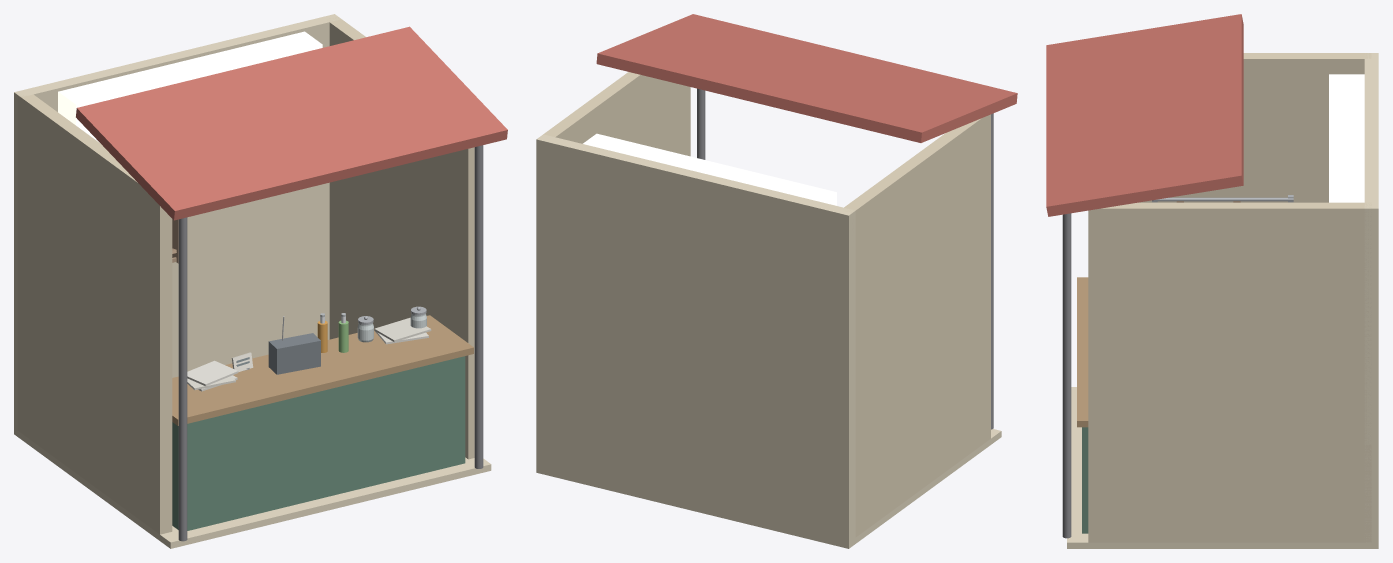
Rendered from room_newsstand_shell.glb.
The picture shows the model from 3 angles, left to right: view 1: azimuth 30°, elevation 25°; view 2: azimuth 150°, elevation 25°; view 3: azimuth 270°, elevation 25°; orthographic projection. The views are drawn at different scales.
Parts seen in each view (by area): view 1: Newsstand_WallLeft, Newsstand_Awning, Newsstand_Counter, Newsstand_WallBack, Newsstand_WallRight, Newsstand_CounterTop, Newsstand_SignBox, Newsstand_Floor, Newsstand_PostLeft, Newsstand_PostRight, NS_Radio_Body, NS_Paper_A3 (+1 smaller); view 2: Newsstand_WallBack, Newsstand_WallLeft, Newsstand_Awning, Newsstand_WallRight, Newsstand_SignBox, Newsstand_Floor, Newsstand_PostLeft, Newsstand_PostRight; view 3: Newsstand_WallRight, Newsstand_Awning, Newsstand_WallLeft, Newsstand_WallBack, Newsstand_SignBox, Newsstand_Floor, Newsstand_PostRight, Newsstand_CounterTop, Newsstand_Counter, NS2_Rod_Rod.
Boxes of the visible parts, x1,y1,x2,y2 form: Newsstand_WallLeft: (17,94,172,534); Newsstand_Awning: (76,26,507,220); Newsstand_Counter: (172,356,465,530); Newsstand_WallBack: (14,14,341,429); Newsstand_WallRight: (327,17,474,459); Newsstand_CounterTop: (172,315,473,425); Newsstand_SignBox: (58,31,322,143); Newsstand_Floor: (14,428,491,548); Newsstand_PostLeft: (178,217,187,541); Newsstand_PostRight: (474,145,483,468); NS_Radio_Body: (268,333,320,374); NS_Paper_A3: (187,360,238,386); Newsstand_WallBack: (536,134,855,542); Newsstand_WallLeft: (844,114,990,537); Newsstand_Awning: (596,14,1017,142); Newsstand_WallRight: (543,72,690,156); Newsstand_SignBox: (583,133,836,205); Newsstand_Floor: (536,429,1001,548); Newsstand_PostLeft: (991,113,993,429); Newsstand_PostRight: (697,88,705,159); Newsstand_WallRight: (1088,202,1371,542); Newsstand_Awning: (1046,14,1243,216); Newsstand_WallLeft: (1139,53,1371,202); Newsstand_WallBack: (1364,53,1378,542); Newsstand_SignBox: (1329,74,1364,202); Newsstand_Floor: (1067,387,1378,548); Newsstand_PostRight: (1062,213,1071,538); Newsstand_CounterTop: (1077,277,1088,427); Newsstand_Counter: (1082,427,1088,533); NS2_Rod_Rod: (1152,197,1293,201).
Size of the model in its own units: 2.7 by 2.93 by 2.35.
